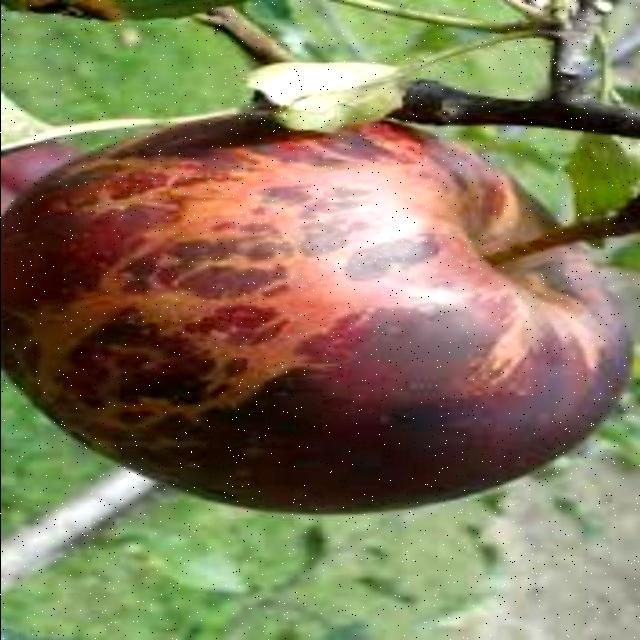BLOTCH: (31, 114, 625, 534)
